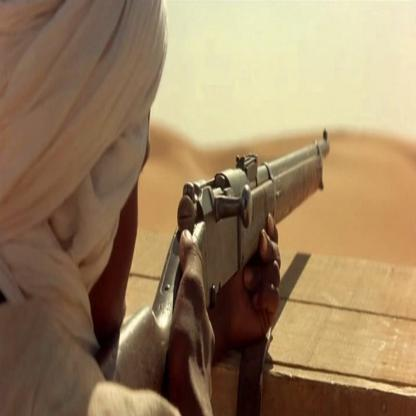gun: (162, 84, 346, 264)
